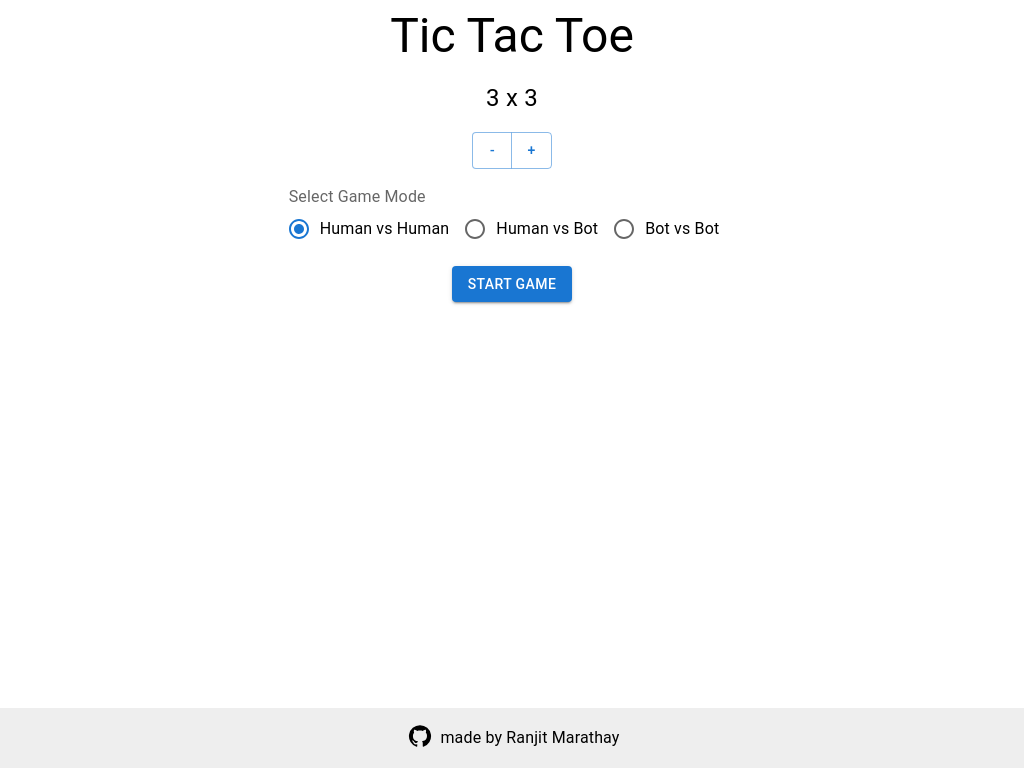
Test case: Board Size › increment size of board
Click the button with test id "increase-board-size": x=532, y=150 [511,132,552,168]
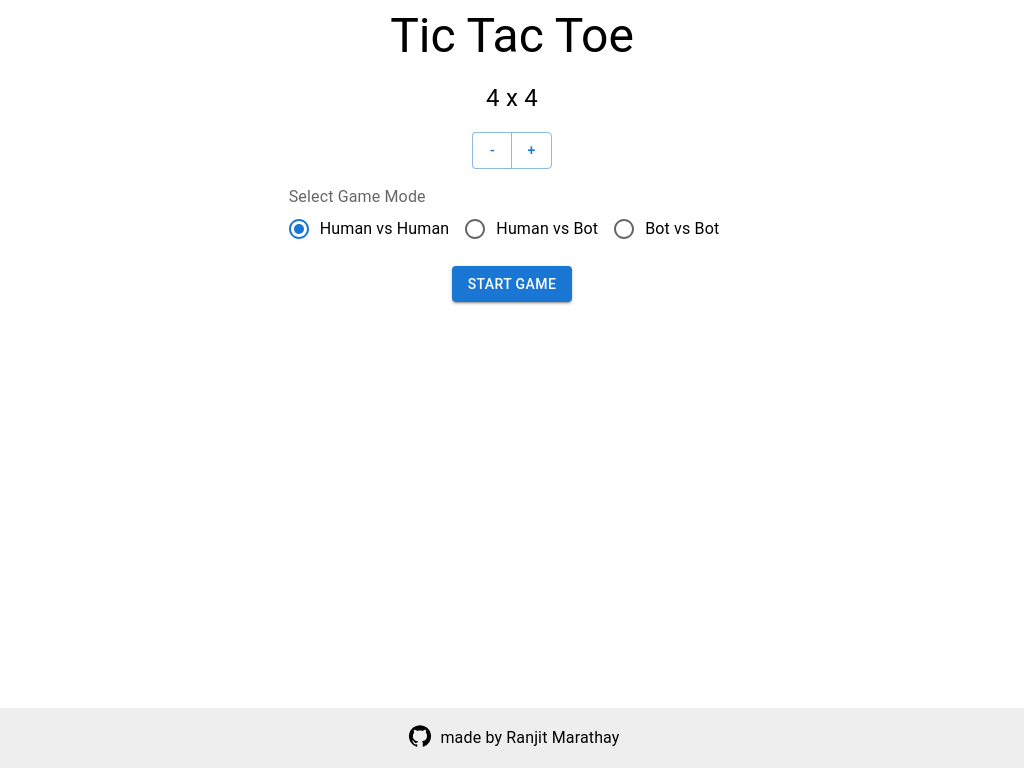
Check: the text with test id "board-size" reads "4 x 4", box [486,80,538,116]
Click the button with test id "increase-board-size": x=532, y=150 [511,132,552,168]
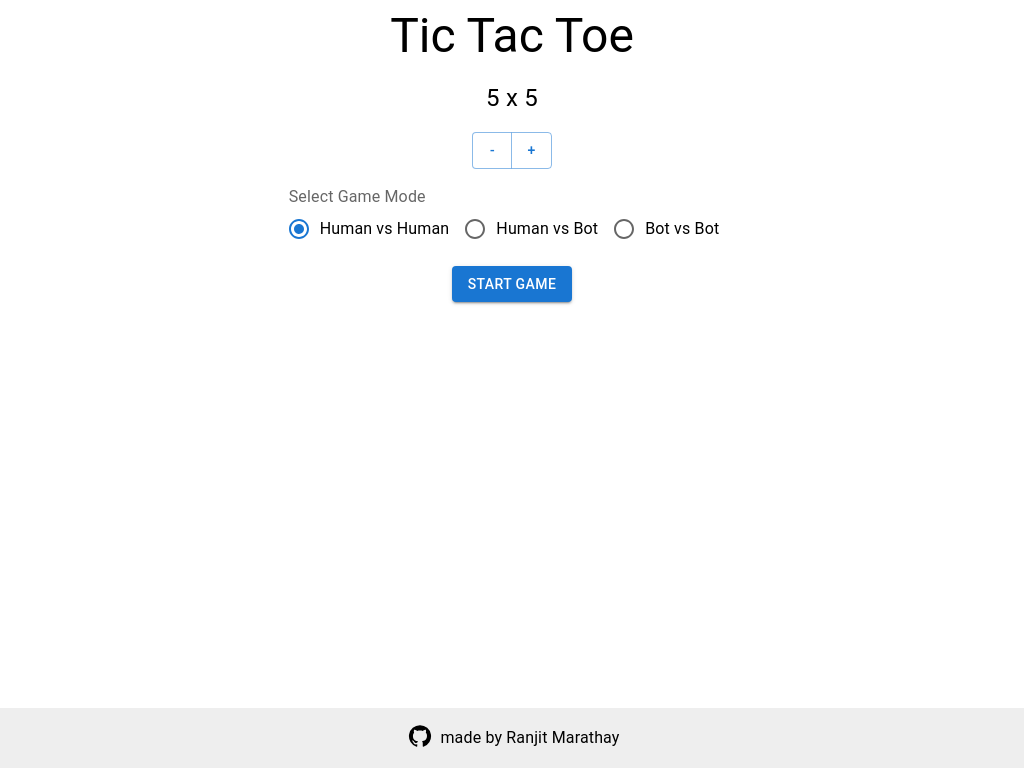
Check: the text with test id "board-size" reads "5 x 5", box [486,80,538,116]
Click the button with test id "decrease-board-size": x=492, y=150 [472,132,512,168]
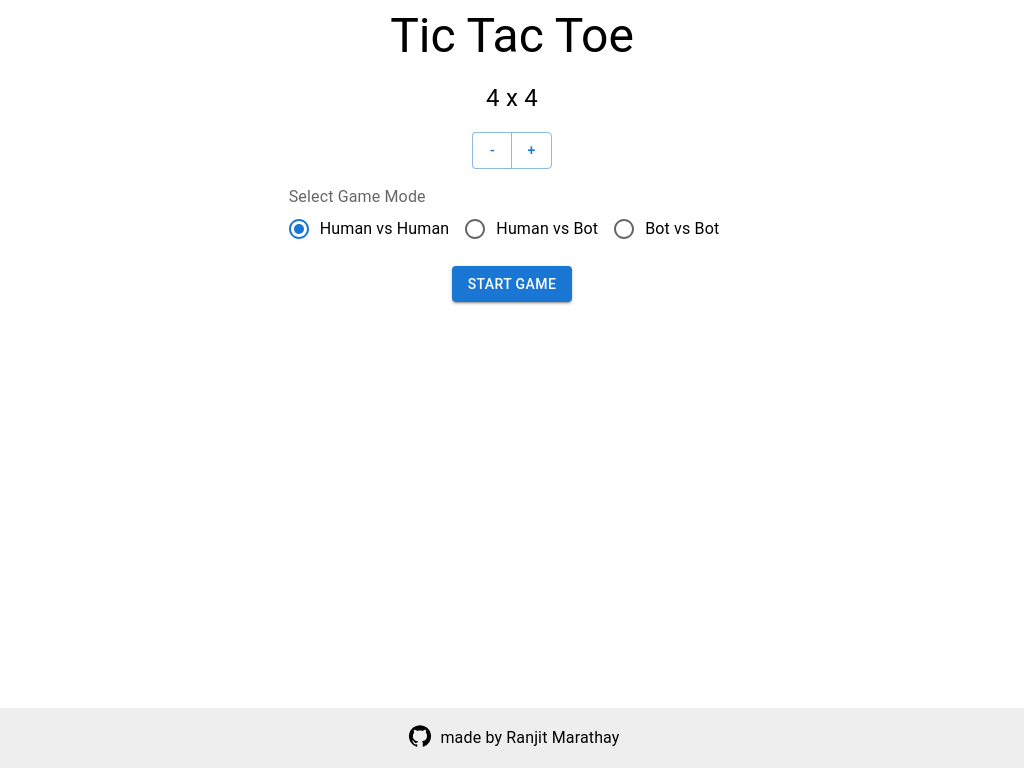
Check: the text with test id "board-size" reads "4 x 4", box [486,80,538,116]
Click the button with test id "decrease-board-size": x=492, y=150 [472,132,512,168]
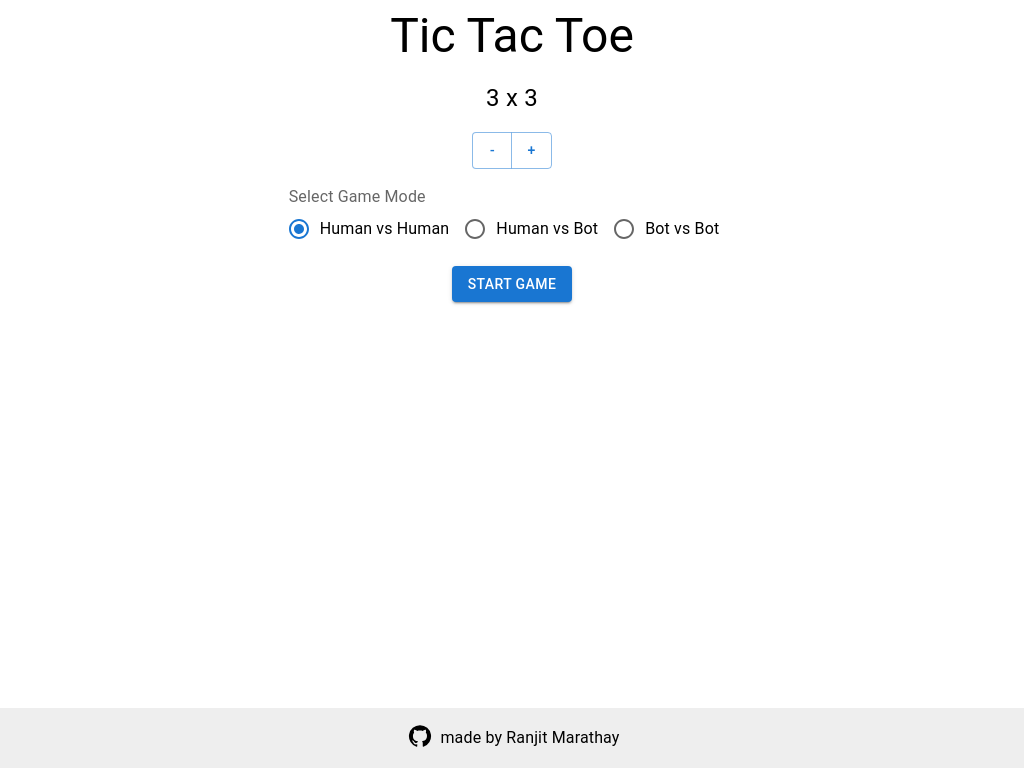
Check: the text with test id "board-size" reads "3 x 3", box [486,80,538,116]
